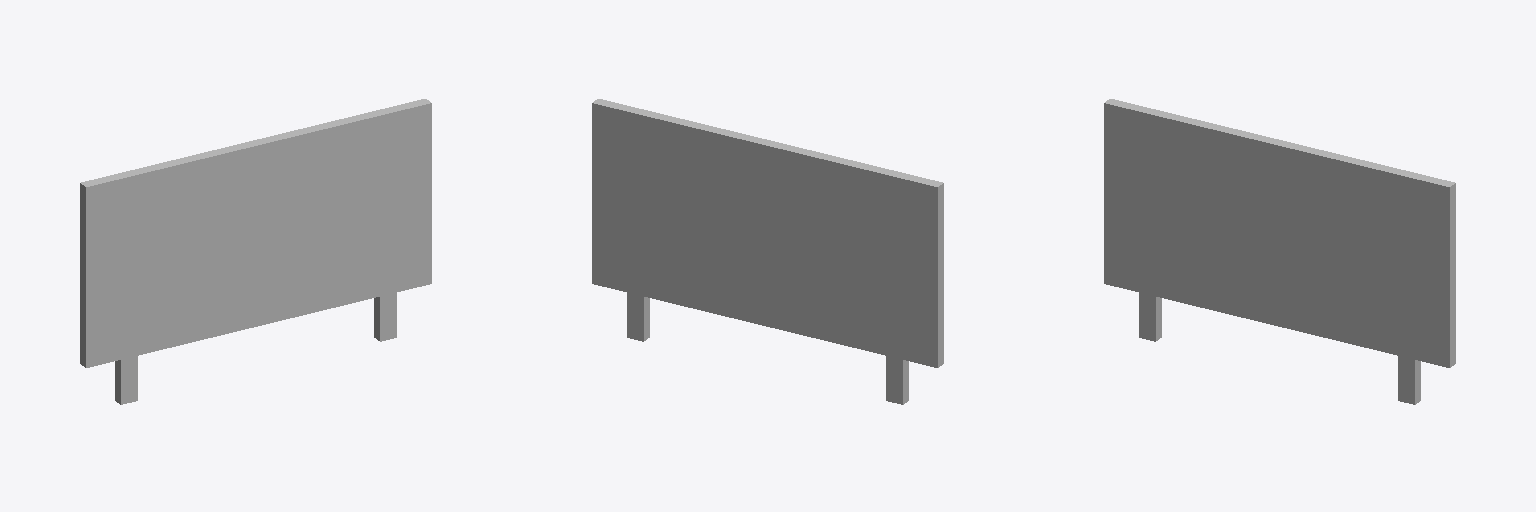
The model's file is text_wall.obj.
3 renders of one model, left to right at view 1: azimuth 30°, elevation 25°; view 2: azimuth 150°, elevation 25°; view 3: azimuth 330°, elevation 25°, orthographic.
Parts seen in each view (by area): view 1: Board_Cube.001, Cube.002_Cube.003, Cube.001_Cube.002; view 2: Board_Cube.001, Cube.002_Cube.003, Cube.001_Cube.002; view 3: Board_Cube.001, Cube.001_Cube.002, Cube.002_Cube.003.
Part boxes in pixels (bbox=[...]): Board_Cube.001: bbox=[80, 99, 431, 367]; Cube.002_Cube.003: bbox=[115, 356, 137, 404]; Cube.001_Cube.002: bbox=[374, 293, 396, 341]; Board_Cube.001: bbox=[592, 99, 943, 367]; Cube.002_Cube.003: bbox=[886, 356, 908, 404]; Cube.001_Cube.002: bbox=[627, 293, 649, 341]; Board_Cube.001: bbox=[1104, 99, 1455, 367]; Cube.001_Cube.002: bbox=[1398, 356, 1420, 404]; Cube.002_Cube.003: bbox=[1139, 293, 1161, 341].
Bounding box in the file's own units: 8 × 5 × 0.25.